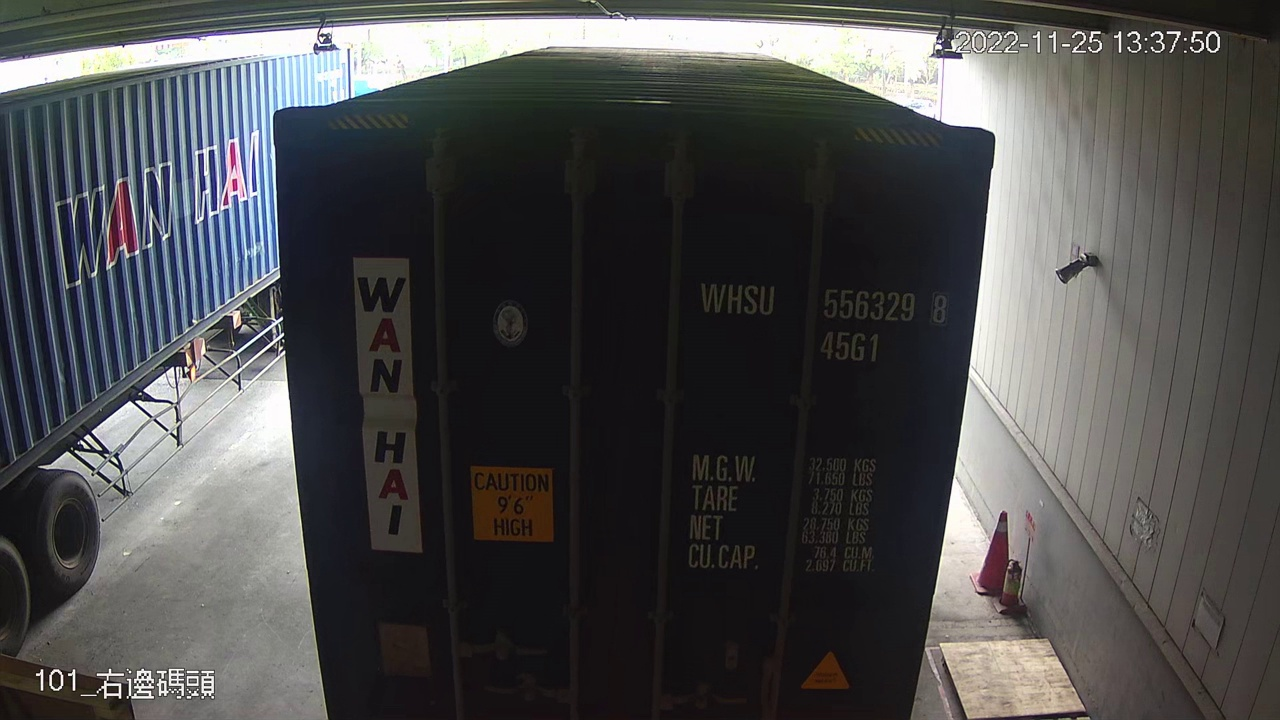container: (690, 269, 955, 377)
